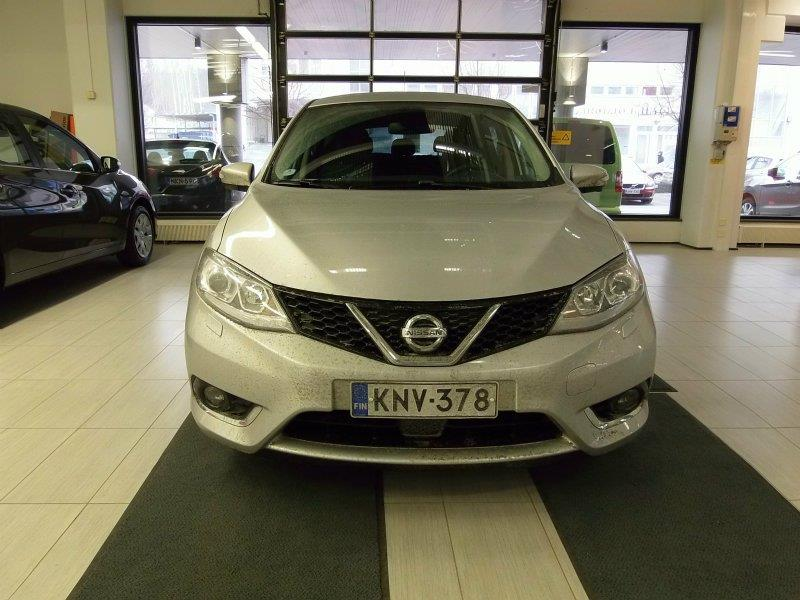license: (350, 379, 497, 420)
